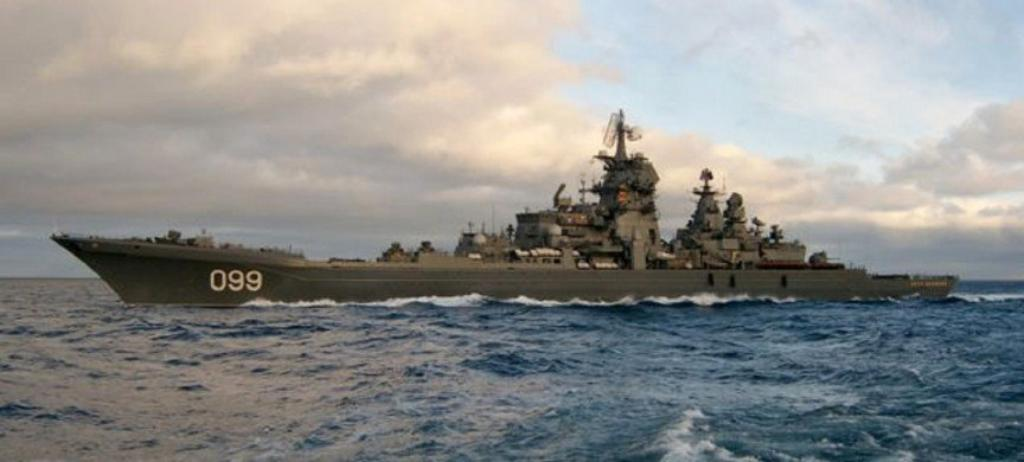Warship: (48, 101, 974, 319)
